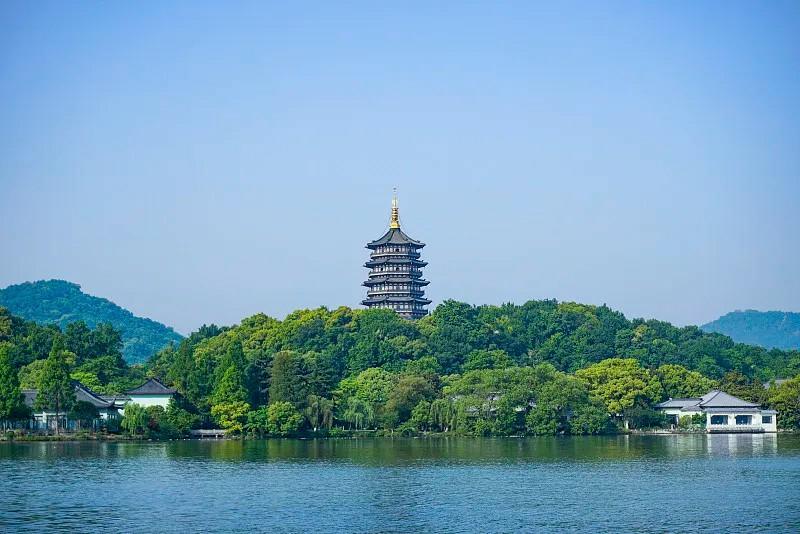Leifeng: (360, 186, 431, 320)
